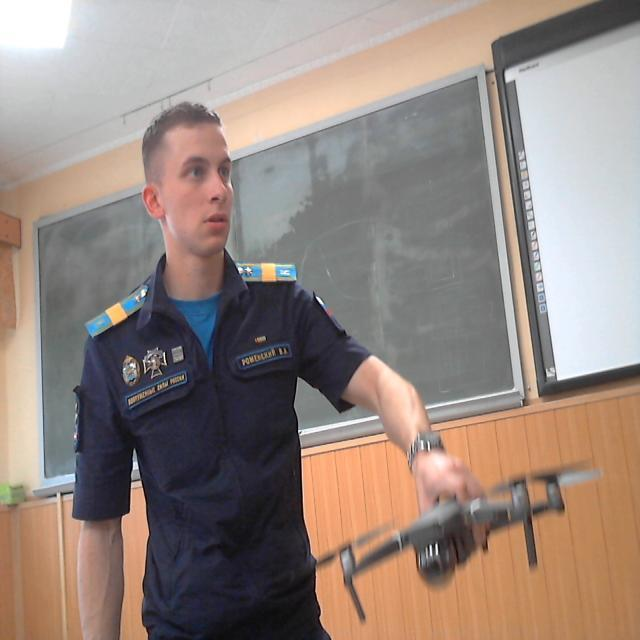drone: (317, 458, 609, 640)
